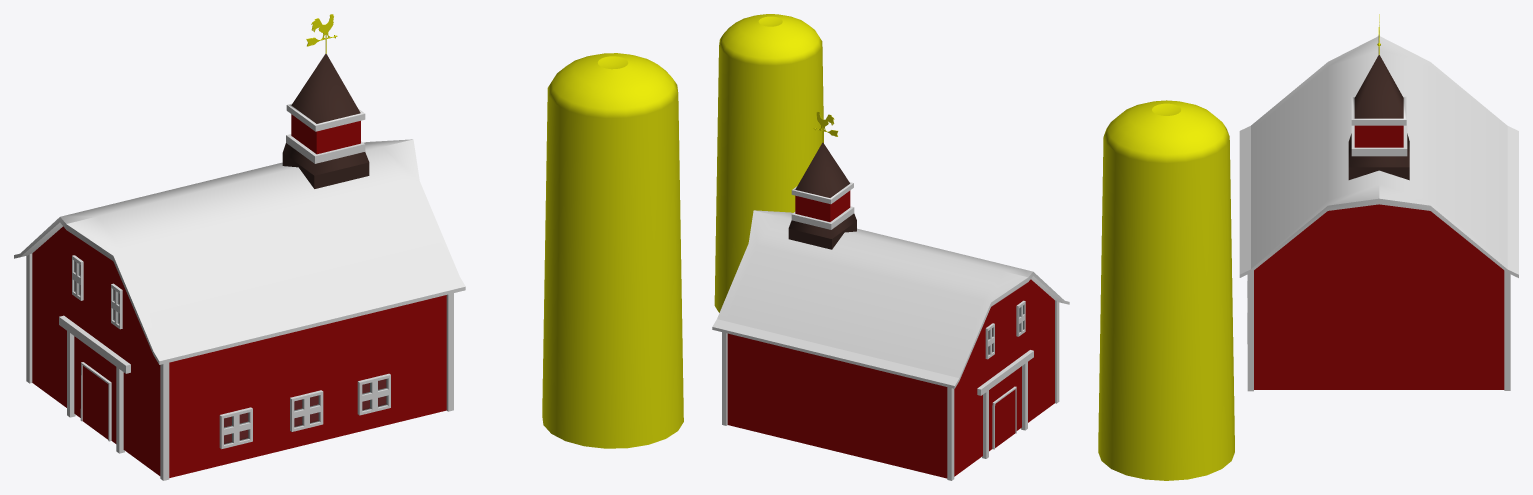
The model's file is BarnSilo.fbx.
3 renders of one model, left to right at view 1: azimuth 30°, elevation 25°; view 2: azimuth 150°, elevation 25°; view 3: azimuth 270°, elevation 25°, orthographic. The views are drawn at different scales.
Visible parts, largest first — view 1: polySurface18, Silo:pCylinder1; view 2: polySurface18, Silo:pCylinder1; view 3: polySurface18, Silo:pCylinder1.
Boxes of the visible parts, box(x1,y1,x2,y2) form: polySurface18: box(14, 14, 465, 480); Silo:pCylinder1: box(542, 53, 683, 448); polySurface18: box(712, 111, 1069, 480); Silo:pCylinder1: box(714, 14, 823, 312); polySurface18: box(1239, 14, 1518, 391); Silo:pCylinder1: box(1098, 100, 1234, 480).
Size of the model in its own units: 27.84 by 19.53 by 21.19.
